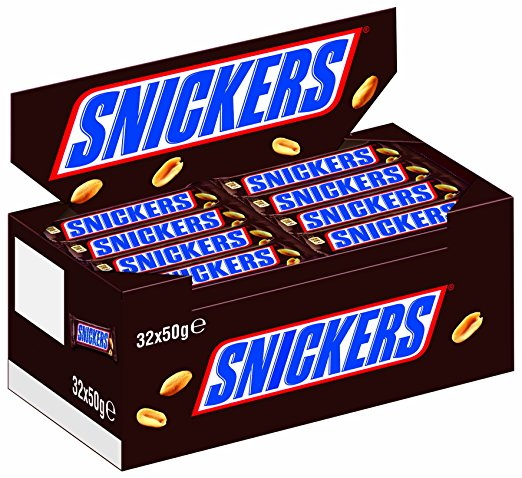snickers: (64, 36, 348, 167), (204, 293, 435, 406), (303, 183, 431, 231), (330, 201, 454, 250), (274, 164, 402, 211), (276, 164, 402, 211), (330, 201, 454, 248), (65, 191, 191, 237), (118, 229, 245, 274), (93, 210, 218, 255), (246, 147, 373, 191), (71, 191, 191, 237), (97, 210, 218, 255), (125, 229, 245, 274), (252, 147, 373, 191), (159, 245, 273, 282), (159, 245, 270, 282), (159, 247, 273, 282)
